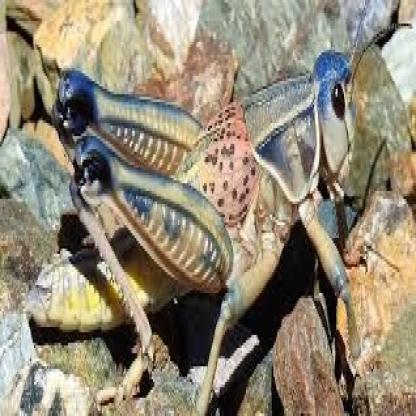grasshopper: (22, 36, 381, 413)
